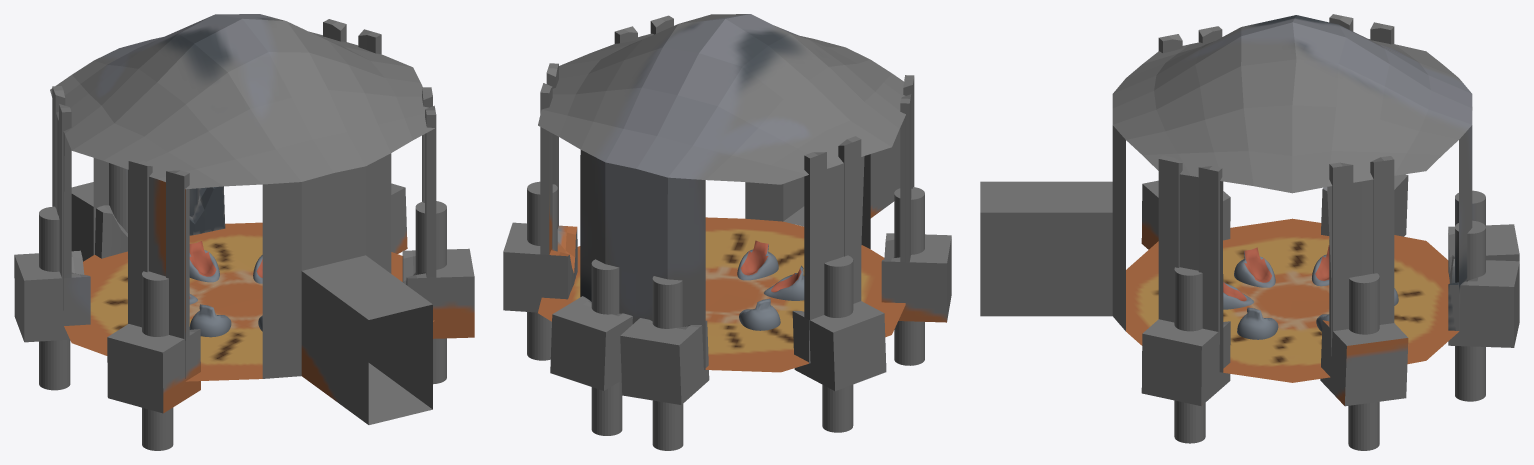
Rendered from chambers.obj.
3 renders of one model, left to right at view 1: azimuth 30°, elevation 25°; view 2: azimuth 150°, elevation 25°; view 3: azimuth 270°, elevation 25°, orthographic. The views are drawn at different scales.
Visible parts, largest first — view 1: Plane, Cube.004, Cube.006; view 2: Plane, Cube.005, Cube.003, Cube.006; view 3: Plane, Cube.006, Cube.002, Cube.005.
Boxes of the visible parts, x1,y1,x2,y2 form: Plane: (14, 14, 474, 450); Cube.004: (189, 241, 219, 282); Cube.006: (189, 304, 231, 337); Plane: (503, 14, 951, 450); Cube.005: (737, 240, 778, 280); Cube.003: (739, 298, 780, 330); Cube.006: (764, 265, 804, 300); Plane: (980, 14, 1519, 450); Cube.006: (1234, 247, 1275, 287); Cube.002: (1237, 307, 1278, 339); Cube.005: (1223, 282, 1253, 309).
Bounding box in the file's own units: 13.18 × 11.93 × 16.31.
